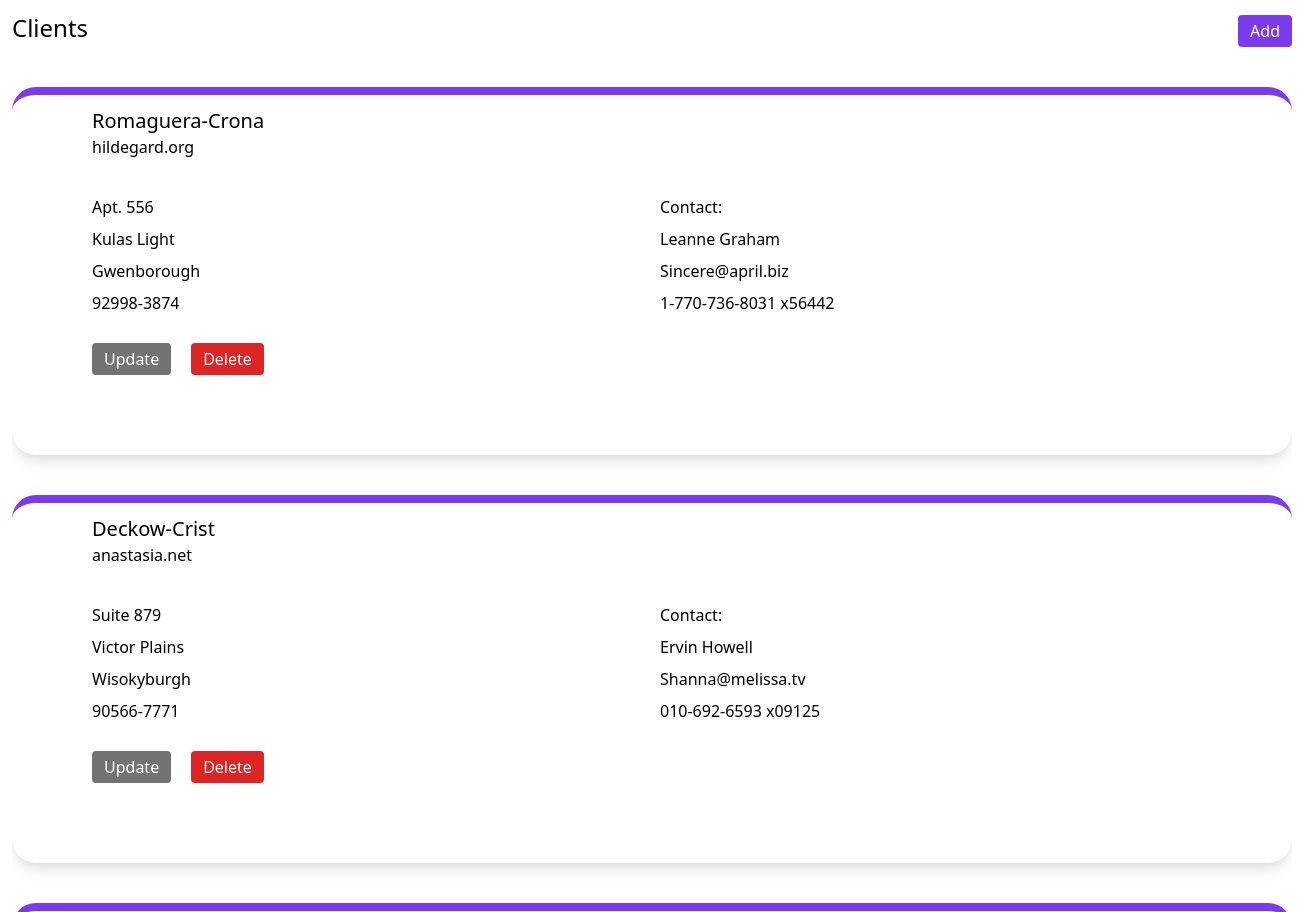
Test: deletes a client
The width and height of the screenshot is (1304, 912).
Expected: the list item that starts with "Romaguera-Crona" is shown, x1=12 y1=87 x2=1292 y2=455
What coordinates should you click on to do the following:
click the button "Delete" below "92998-3874"
I would click on:
 (228, 359)
Its box is x1=191 y1=343 x2=264 y2=375.
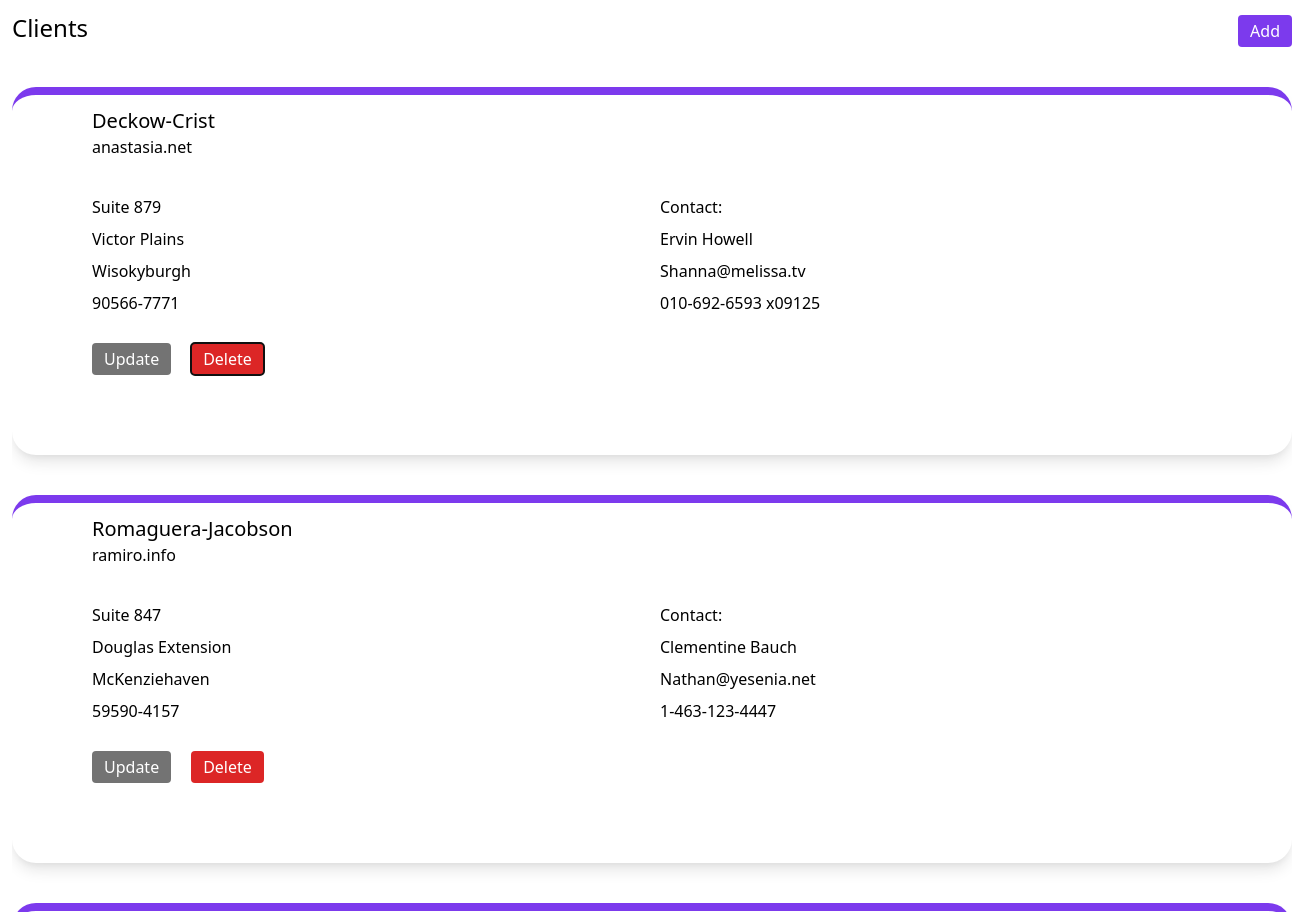
Expected: the heading "Romaguera-Crona" is gone
Expected: the text "Leanne Graham" is gone
